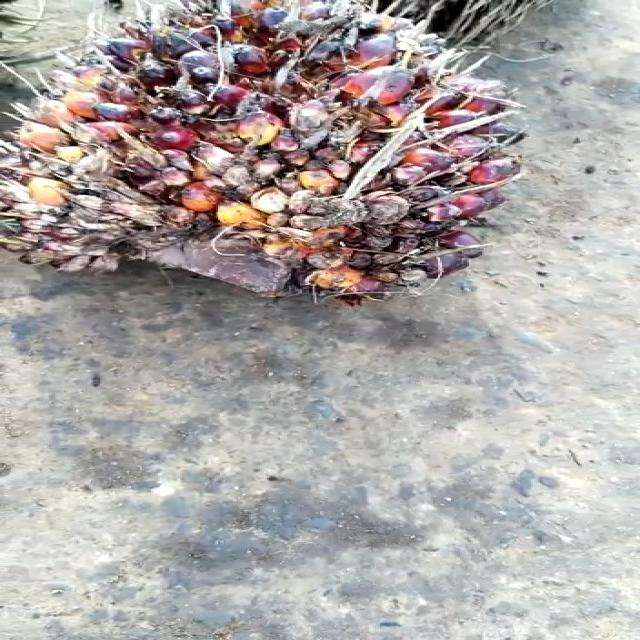palm oil: (2, 0, 516, 310)
